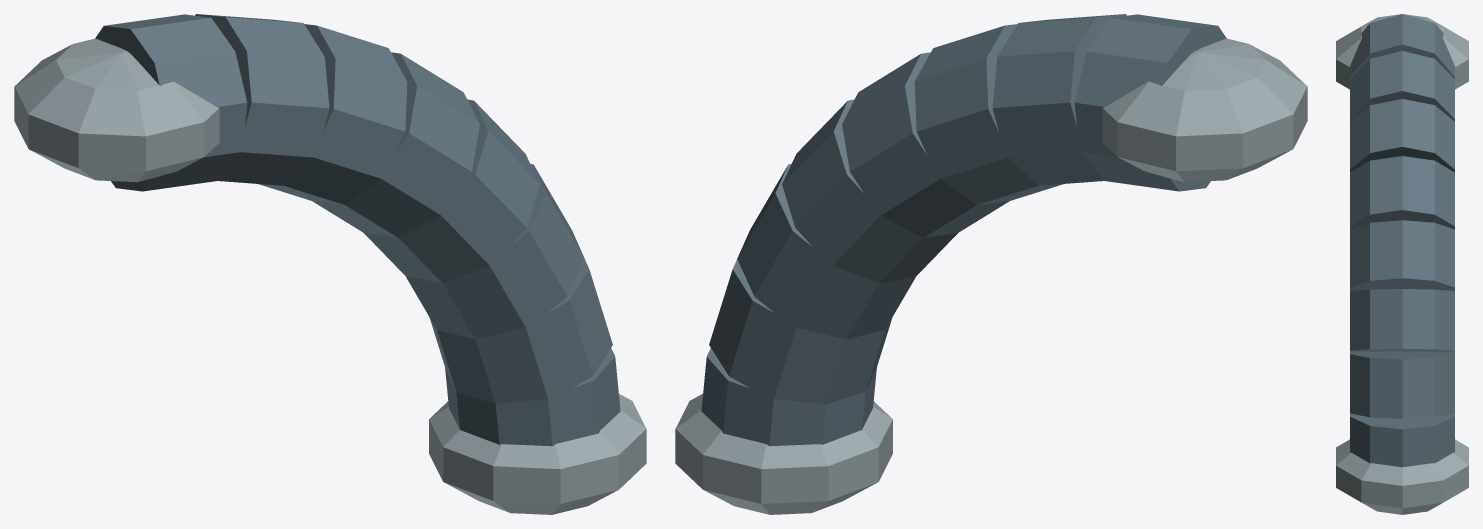
Rendered from props-pipe-elbow.lod0.glb.
The picture shows the model from 3 angles, left to right: view 1: azimuth 30°, elevation 25°; view 2: azimuth 150°, elevation 25°; view 3: azimuth 270°, elevation 25°; orthographic projection. The views are drawn at different scales.
Visible parts, largest first — view 1: props-pipe-elbow__body; view 2: props-pipe-elbow__body; view 3: props-pipe-elbow__body.
Part boxes in pixels (x1,y1,x2,y2): props-pipe-elbow__body: (14, 14, 646, 514); props-pipe-elbow__body: (675, 14, 1307, 514); props-pipe-elbow__body: (1336, 14, 1468, 514).
Size of the model in its own units: 1.46 by 1.31 by 0.4342.
